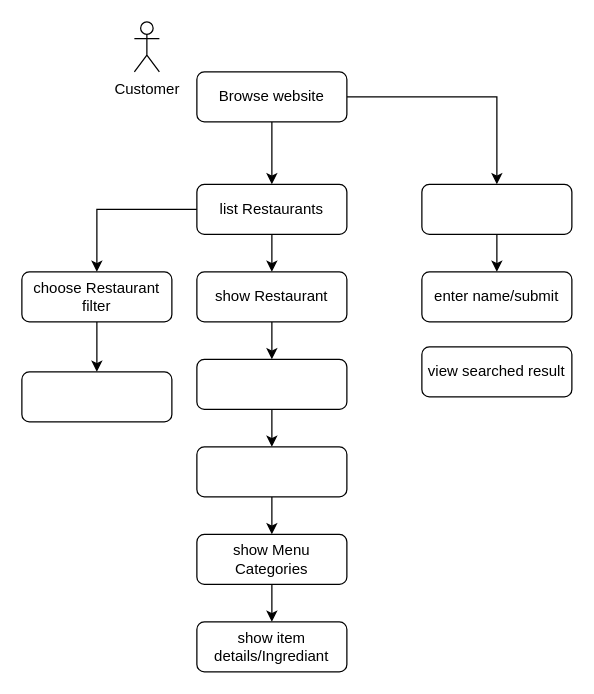
The diagram is 594 pixels wide and 694 high, and some of its shapes have lost their labels. Here are the shapes that lost their labels. From the top down, the box of each, then its label:
(421, 183, 572, 234): Search Restaurant/ Menu item
(21, 371, 172, 422): show filtered restaurant
(196, 358, 347, 409): show Restaurant Categories
(196, 446, 347, 497): show Menus
